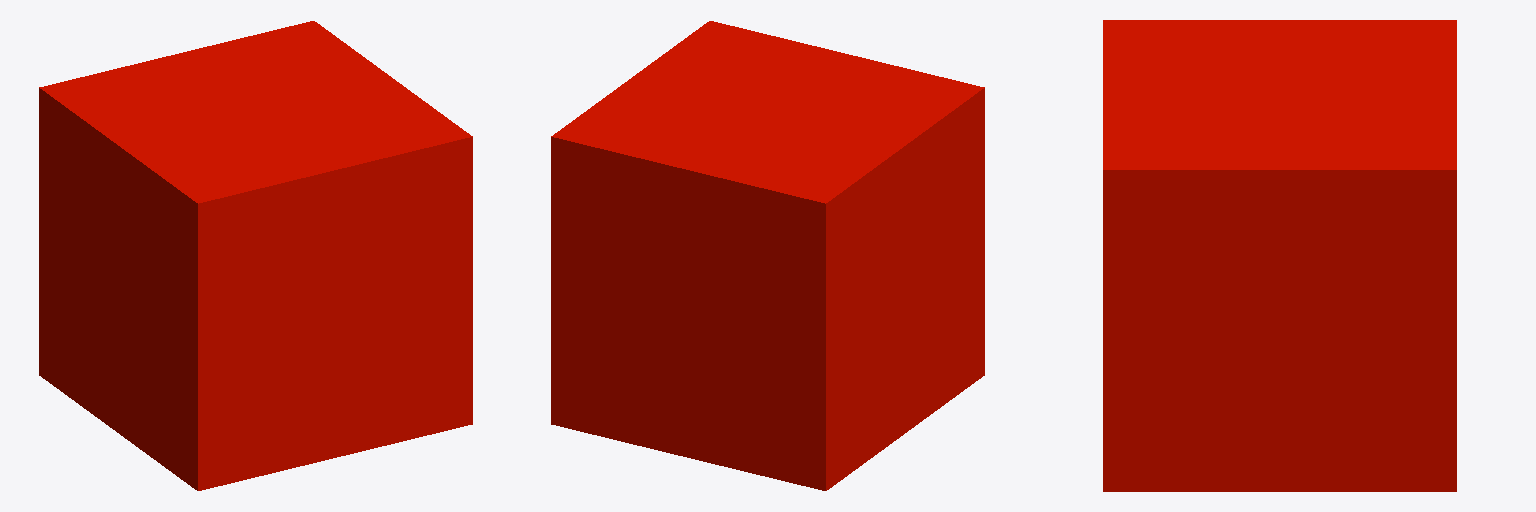
The robot description file, URDF, robot "MassSpringDamper":
<?xml version="1.0"?>

<robot xmlns="http://drake.mit.edu"
 xmlns:xsi="http://www.w3.org/2001/XMLSchema-instance"
 xsi:schemaLocation="http://drake.mit.edu ../../../doc/drakeURDF.xsd" name="MassSpringDamper">
  <material name="green">
    <color rgba=".3 .6 .4 1" />
  </material>
  <material name="red">
    <color rgba=".9 .1 0 1" />
  </material>
  <material name="blue">
    <color rgba="0 0 1 1" />
  </material>
  <link name="base"/>
  <link name="mass">
    <inertial> 
      <origin xyz="0 0 0" rpy="0 0 0" />
      <mass value="1" />
      <inertia ixx="0" ixy="0" ixz="0" iyy="0" iyz="0" izz="0"/> 
    </inertial>
    <visual>
      <origin xyz="0 0 0" rpy="0 0 0" />
      <geometry>
        <box size="1 1 1" />
      </geometry>
      <material name="red" />
    </visual> 
  </link>
  <joint name="x" type="prismatic">
    <parent link="base"/>
    <child link="mass" />
    <axis xyz="1 0 0" />
  </joint>
  <force_element name="spring">
    <linear_spring_damper damping="1" stiffness="10">
      <link1 link="base" xyz="0 0 0" />
      <link2 link="mass" xyz="0 0 0" />
    </linear_spring_damper>    
  </force_element>
  <force_element name="external_force">
    <thrust lower_limit="0" upper_limit="50" scale_factor="1">
      <parent link="mass"/>
      <origin xyz="0 0 0"/>
      <axis xyz="1 0 0"/>
    </thrust>
  </force_element>
</robot>

--- What the picture shows (computed from the rendered views, not written in the file) ---
The picture shows the robot from 3 angles, left to right: view 1: azimuth 30°, elevation 25°; view 2: azimuth 150°, elevation 25°; view 3: azimuth 270°, elevation 25°; orthographic projection.
Robot: MassSpringDamper — 2 links, 1 joints (1 prismatic); root link base; default pose: all joints at 0.
Links seen in each view (by area): view 1: mass; view 2: mass; view 3: mass.
Link boxes in pixels (left/top/right/bottom): mass: left=39, top=21, right=472, bottom=490; mass: left=551, top=21, right=984, bottom=490; mass: left=1103, top=20, right=1456, bottom=491.
Bounding box of the posed robot: 1 × 1 × 1 m (x, y, z).
Geometry: primitives only (box / cylinder / sphere), no mesh files.